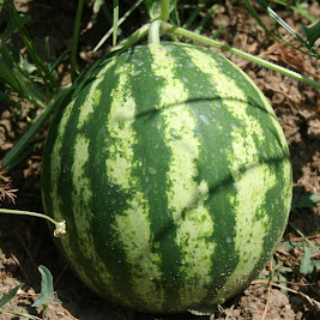dua_hau: (38, 39, 295, 315)
